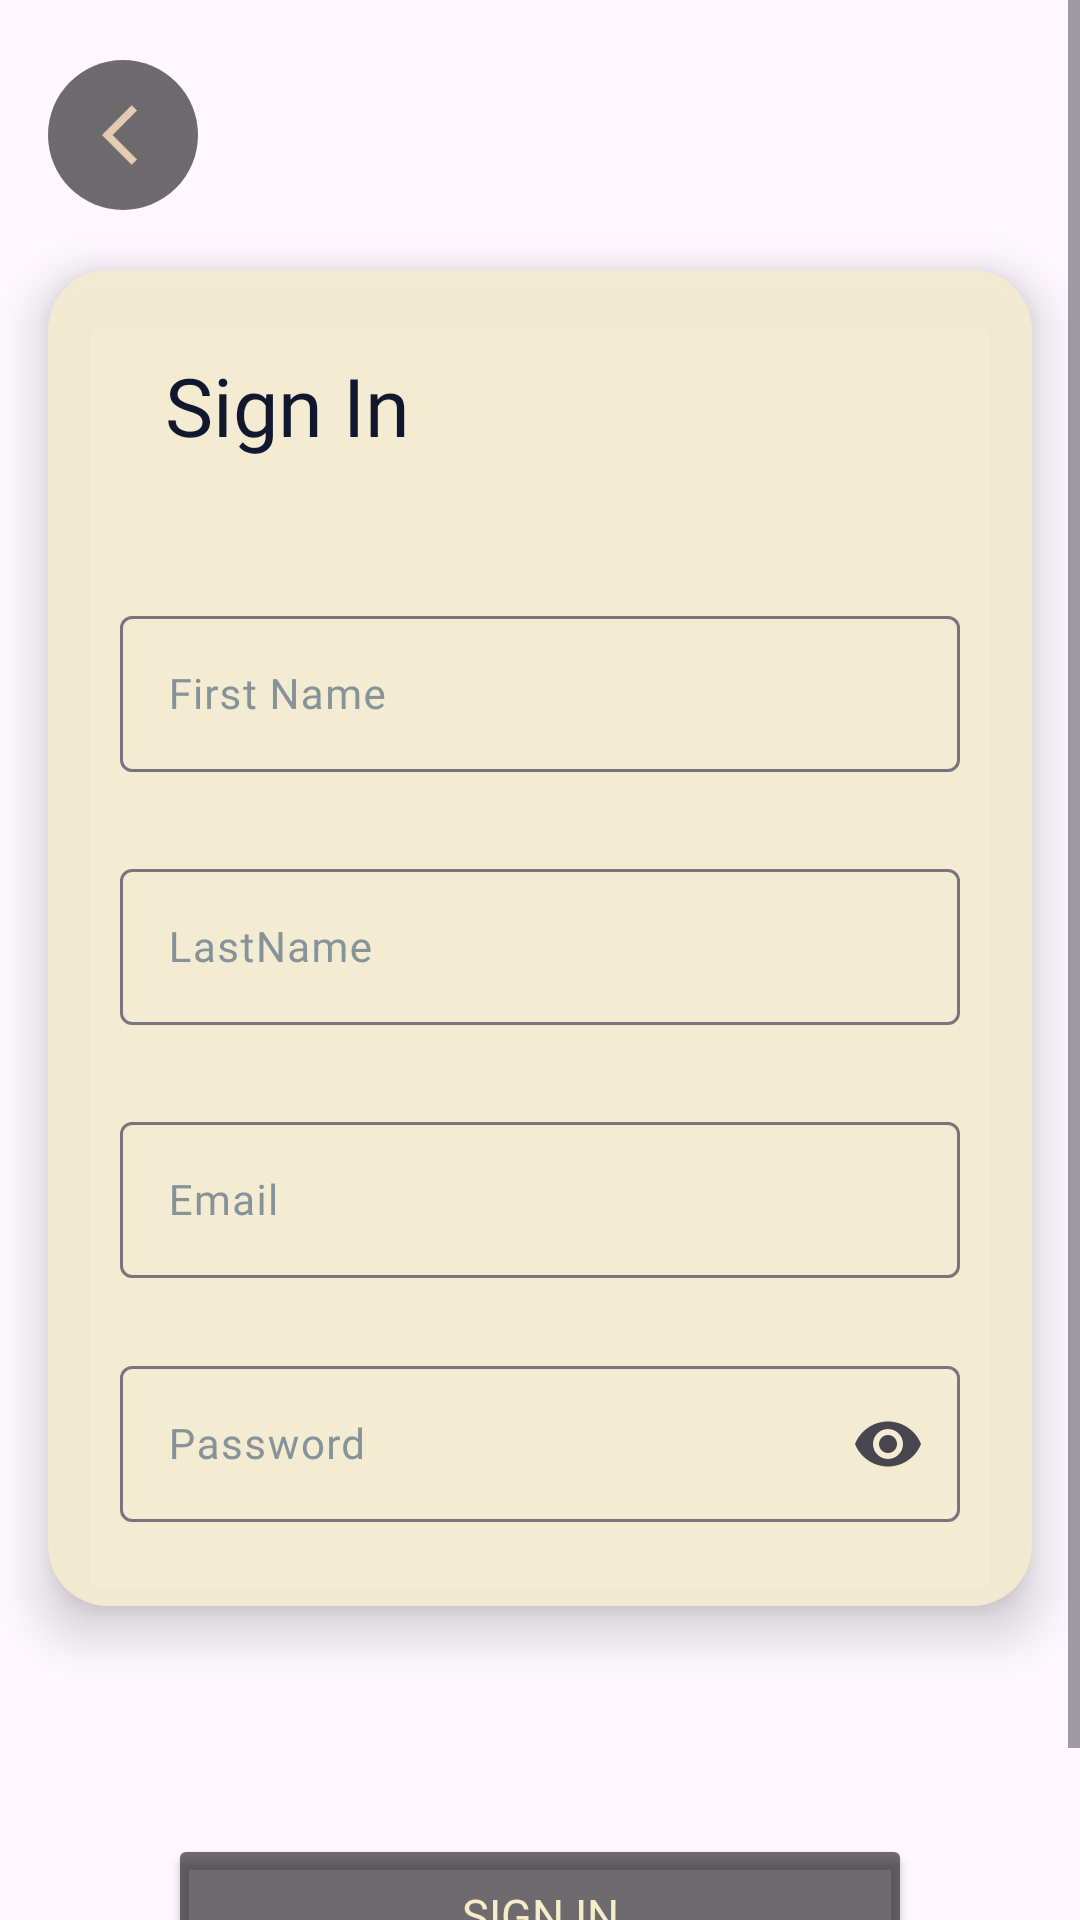

Screen size 1080w x 1920h. Icon name, then its box in pixels as (x1, y1, x2, y2):
arrow back: (102, 105, 137, 165)
